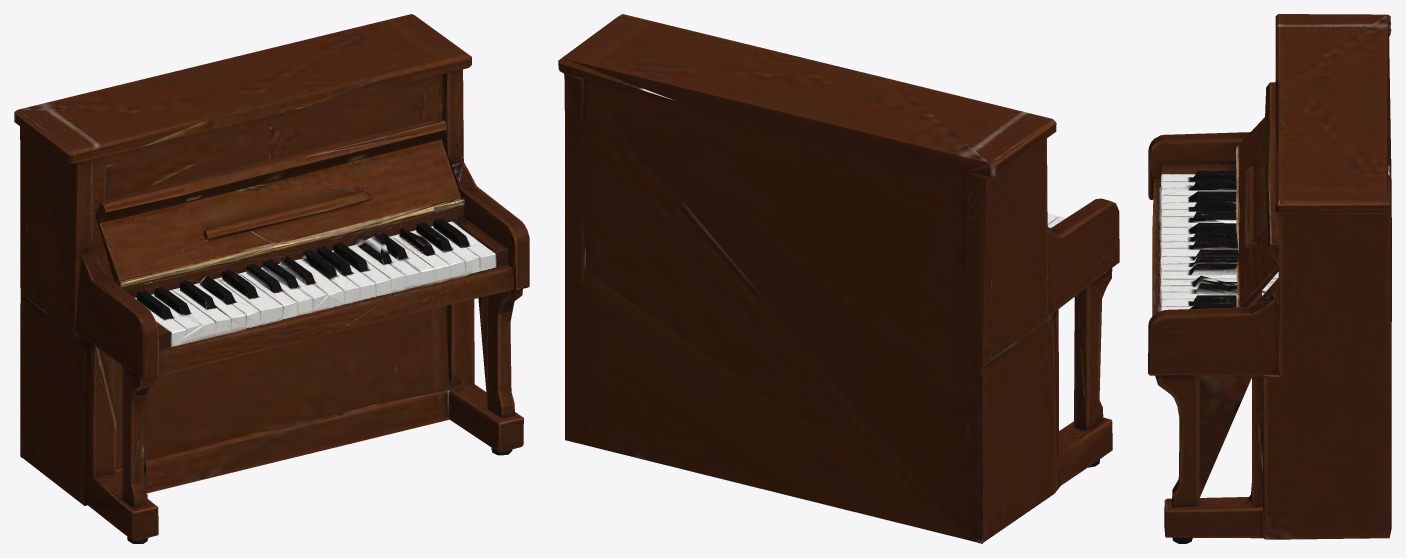
The model's file is piano.glb.
The picture shows the model from 3 angles, left to right: view 1: azimuth 30°, elevation 25°; view 2: azimuth 150°, elevation 25°; view 3: azimuth 270°, elevation 25°; orthographic projection. The views are drawn at different scales.
Parts seen in each view (by area): view 1: output_unwrapped; view 2: output_unwrapped; view 3: output_unwrapped.
Part boxes in pixels (left/top/right/bottom): output_unwrapped: left=14, top=14, right=529, bottom=543; output_unwrapped: left=558, top=14, right=1119, bottom=543; output_unwrapped: left=1148, top=14, right=1391, bottom=543.
Bounding box in the file's own units: 1.9 × 1.61 × 1.03.
Materials: 1 (1 with a texture image).
